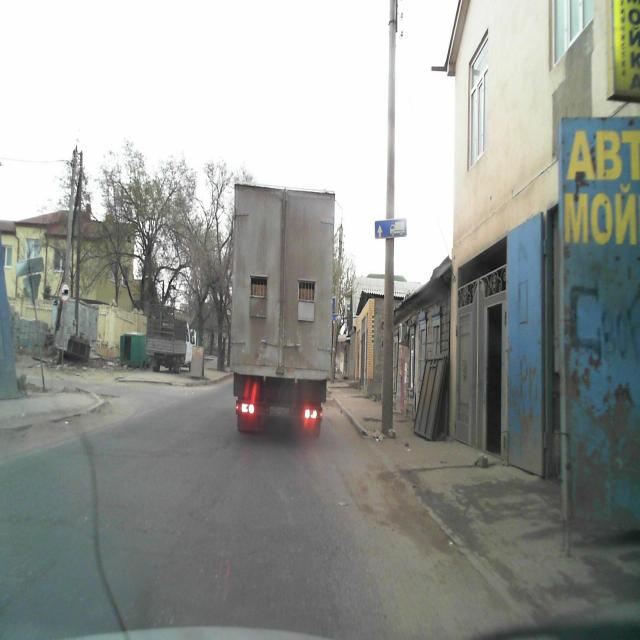road sign: (375, 216, 405, 238)
